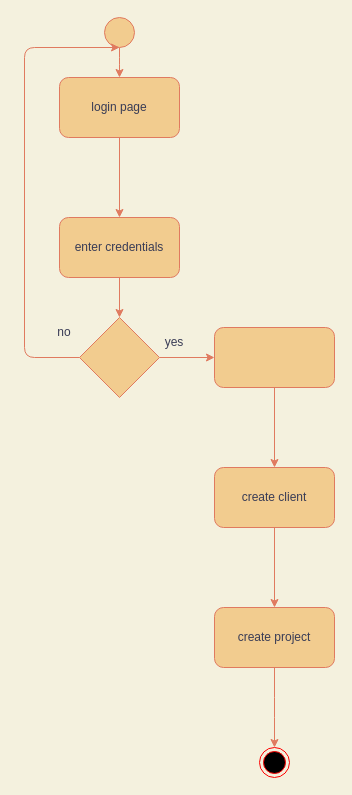
Image size: 352x795. Some labels were removed from this diagram. Here are the shapes that lost their labels. From the top down, the centre of each, then its label:
At point 119,357: "correct".
At point 274,357: "user".
